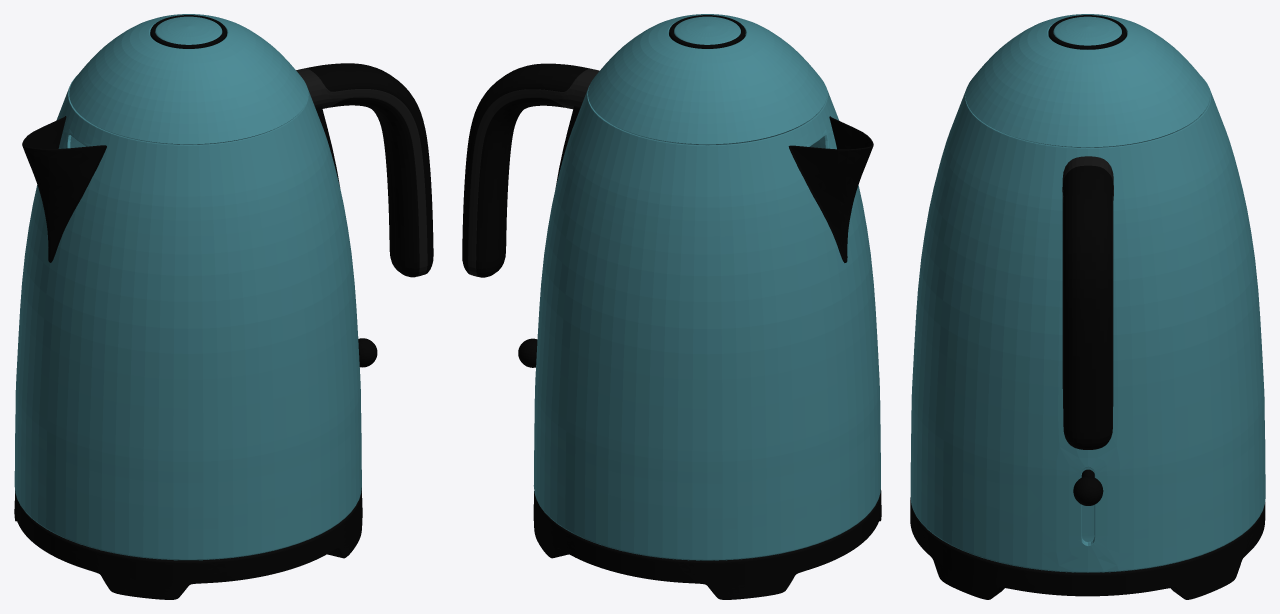
File: cgaxis_models_116_09_obj_electric_kettle.obj
The picture shows the model from 3 angles, left to right: view 1: azimuth 30°, elevation 25°; view 2: azimuth 150°, elevation 25°; view 3: azimuth 270°, elevation 25°; orthographic projection. The views are drawn at different scales.
Parts seen in each view (by area): view 1: cgaxis_moels_116_09_03_01, cgaxis_moels_116_09_03_02, cgaxis_moels_116_09_02_01, cgaxis_moels_116_09_01_03, cgaxis_moels_116_09_01_01, cgaxis_moels_116_09_01_02, cgaxis_moels_116_09_04_01, cgaxis_moels_116_09_01_05; view 2: cgaxis_moels_116_09_03_01, cgaxis_moels_116_09_03_02, cgaxis_moels_116_09_02_01, cgaxis_moels_116_09_01_03, cgaxis_moels_116_09_01_01, cgaxis_moels_116_09_01_02, cgaxis_moels_116_09_04_01, cgaxis_moels_116_09_01_05; view 3: cgaxis_moels_116_09_03_01, cgaxis_moels_116_09_03_02, cgaxis_moels_116_09_01_02, cgaxis_moels_116_09_02_01, cgaxis_moels_116_09_01_05, cgaxis_moels_116_09_04_01, cgaxis_moels_116_09_01_04.
Boxes of the visible parts, box(x1,y1,x2,y2) form: cgaxis_moels_116_09_03_01: box(14, 76, 361, 560); cgaxis_moels_116_09_03_02: box(69, 14, 308, 144); cgaxis_moels_116_09_02_01: box(14, 488, 362, 599); cgaxis_moels_116_09_01_03: box(329, 97, 419, 277); cgaxis_moels_116_09_01_01: box(22, 116, 106, 262); cgaxis_moels_116_09_01_02: box(306, 63, 433, 274); cgaxis_moels_116_09_04_01: box(296, 68, 427, 276); cgaxis_moels_116_09_01_05: box(150, 15, 377, 367); cgaxis_moels_116_09_03_01: box(533, 85, 880, 560); cgaxis_moels_116_09_03_02: box(588, 14, 826, 144); cgaxis_moels_116_09_02_01: box(533, 489, 881, 599); cgaxis_moels_116_09_01_03: box(476, 98, 565, 277); cgaxis_moels_116_09_01_01: box(788, 116, 873, 262); cgaxis_moels_116_09_01_02: box(462, 63, 589, 274); cgaxis_moels_116_09_04_01: box(468, 68, 599, 276); cgaxis_moels_116_09_01_05: box(518, 15, 745, 367); cgaxis_moels_116_09_03_01: box(910, 76, 1265, 572); cgaxis_moels_116_09_03_02: box(965, 14, 1209, 147); cgaxis_moels_116_09_01_02: box(1063, 165, 1113, 449); cgaxis_moels_116_09_02_01: box(910, 497, 1265, 599); cgaxis_moels_116_09_01_05: box(1048, 15, 1126, 505); cgaxis_moels_116_09_04_01: box(1062, 156, 1113, 436); cgaxis_moels_116_09_01_04: box(1062, 199, 1113, 408).
Size of the model in its own units: 8.66 by 10.23 by 6.43.
